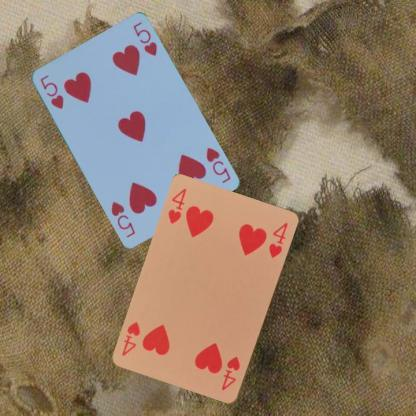4h: (166, 186, 188, 225), (219, 354, 241, 392)
5h: (203, 144, 232, 184), (37, 72, 65, 110)
